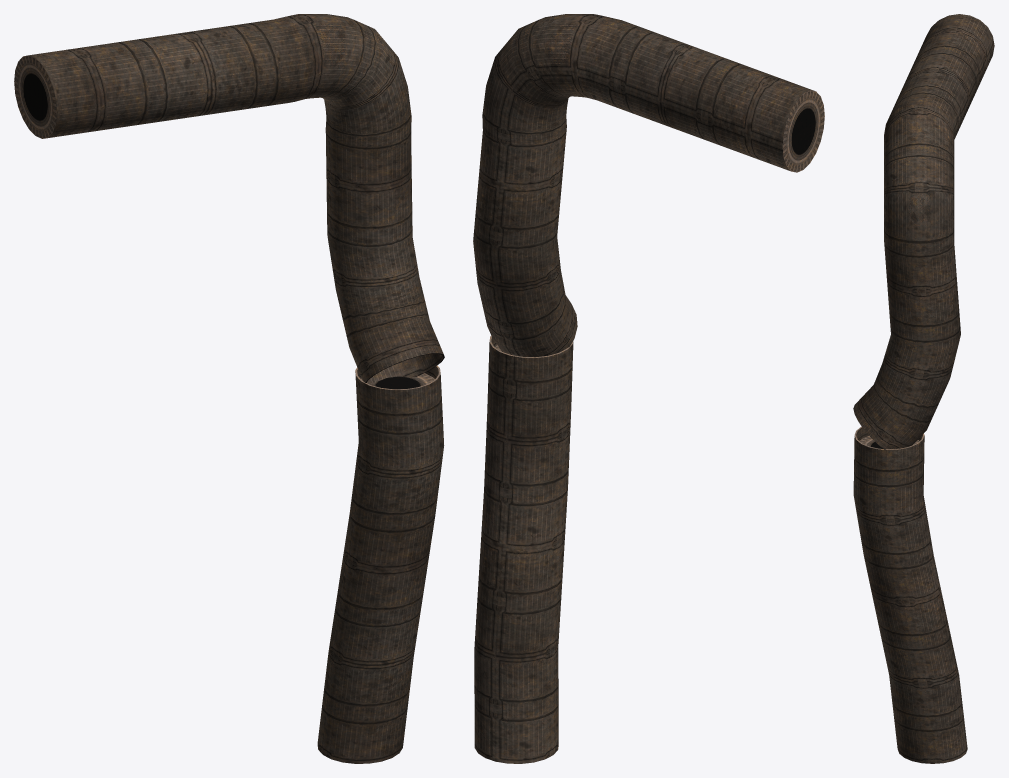
File: pipe_90d_broken.fbx
3 views of the same model, side by side, from view 1: azimuth 30°, elevation 25°; view 2: azimuth 150°, elevation 25°; view 3: azimuth 270°, elevation 25° (orthographic). The views are drawn at different scales.
Parts seen in each view (by area): view 1: Mesh; view 2: Mesh; view 3: Mesh.
Part boxes in pixels (x1,y1,x2,y2): Mesh: (14,14,444,763); Mesh: (473,14,824,763); Mesh: (853,14,994,763).
Bounding box in the file's own units: 126 × 251 × 52.43.
